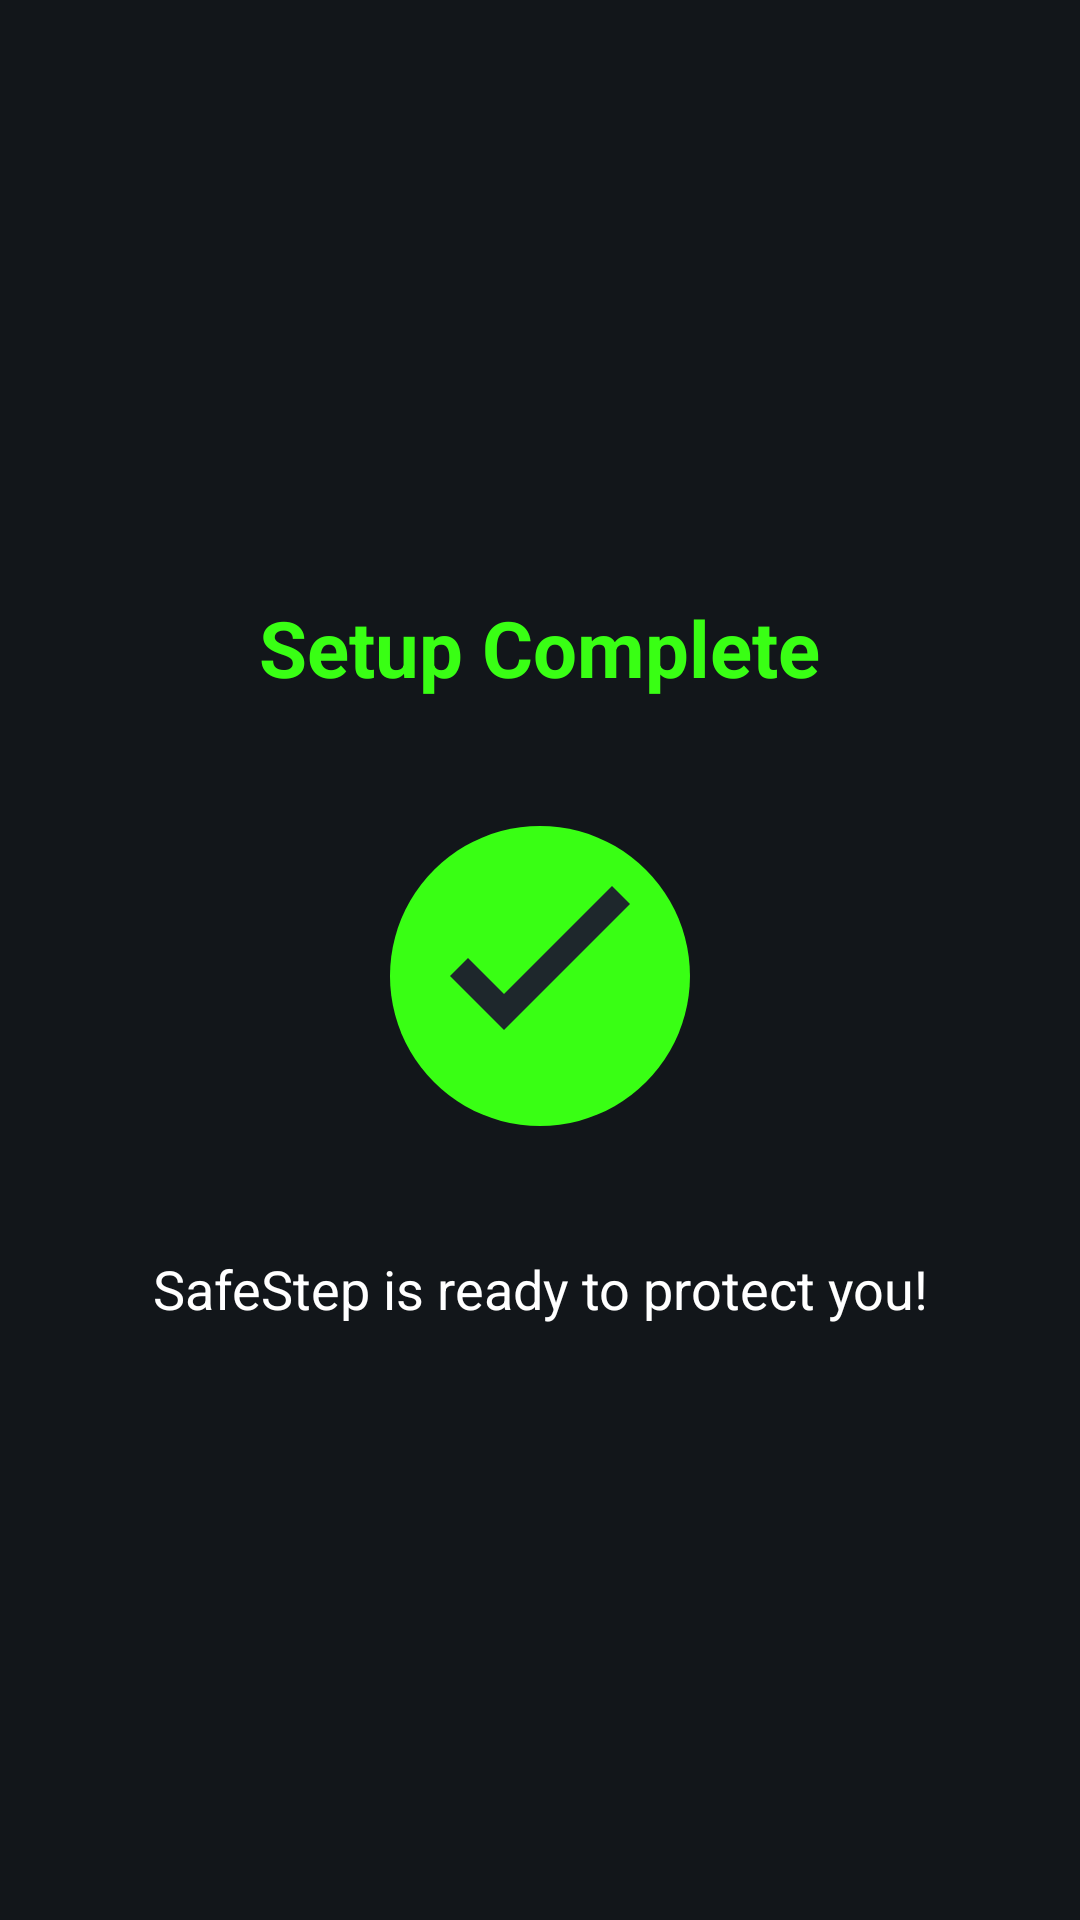

Screen size 1080x1920. Icon name, then its center in pixels as (x=x, y=y):
Success Tick: (x=540, y=976)
